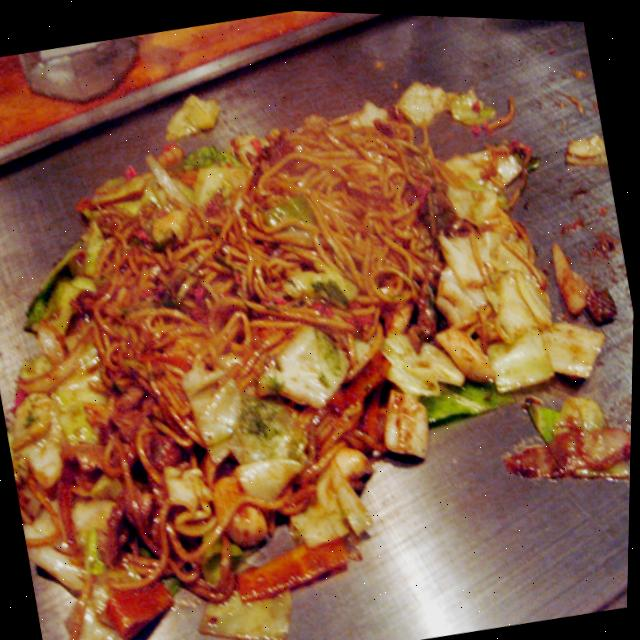面条主食: (0, 46, 549, 640)
